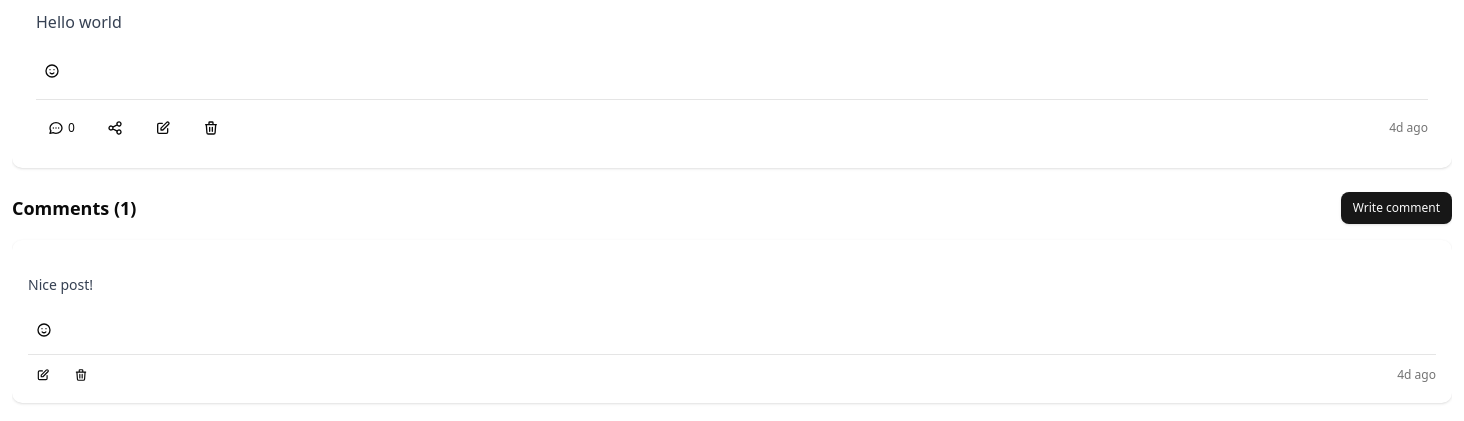
Test case: PostDetailPage › shows delete confirmation on comment delete
The width and height of the screenshot is (1464, 421).
Click the button with test id "delete-comment-btn" at (81, 375), box [66,363,96,387]
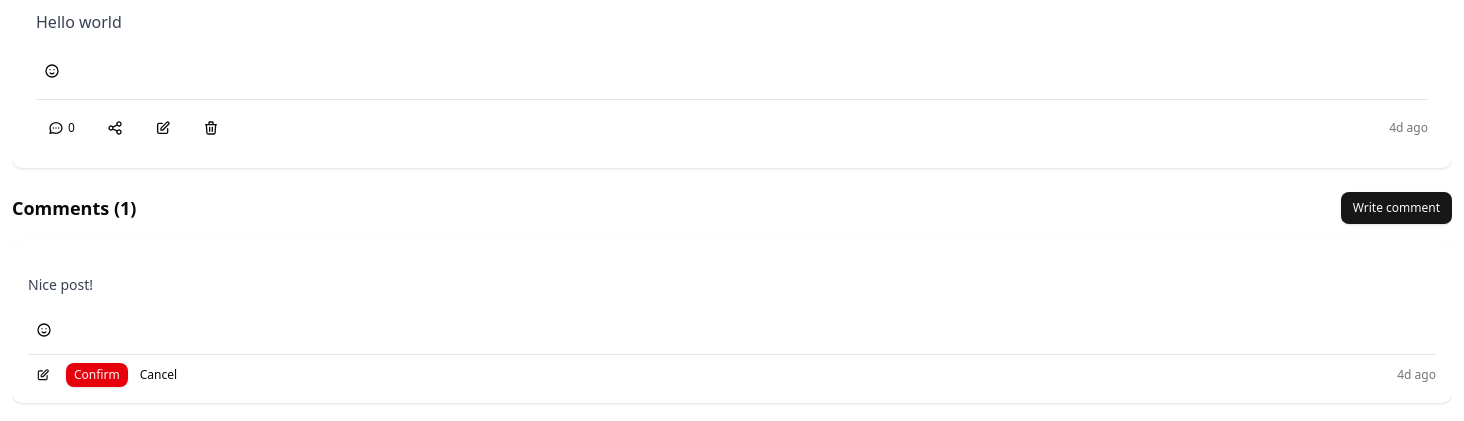
Now the button with test id "confirm-delete-comment-btn" is shown, box [66,363,128,387]
